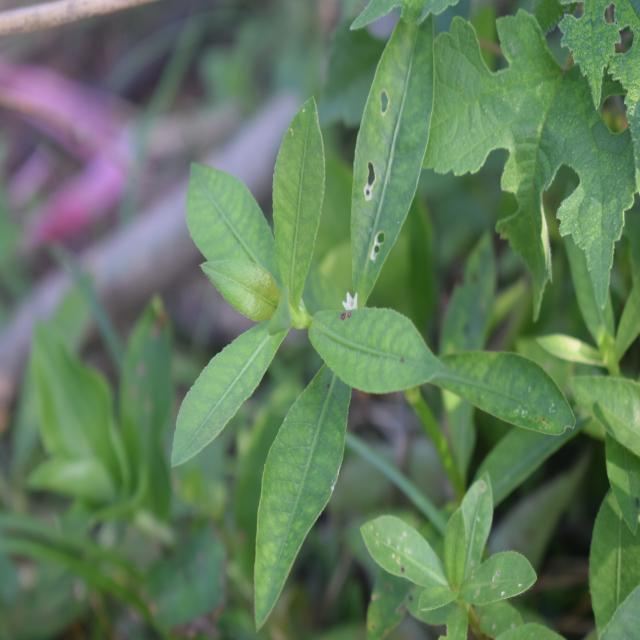Alligatorweed: (158, 38, 518, 514)
